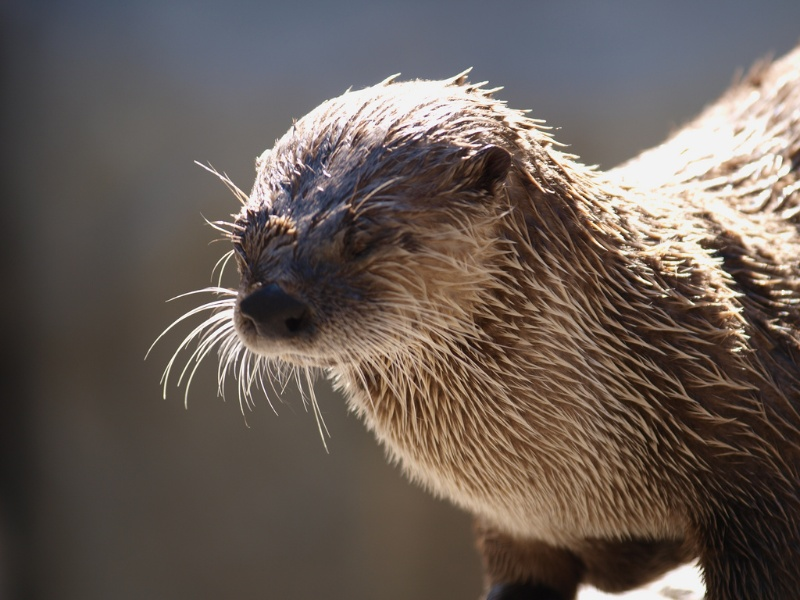minkish: (124, 62, 793, 600)
